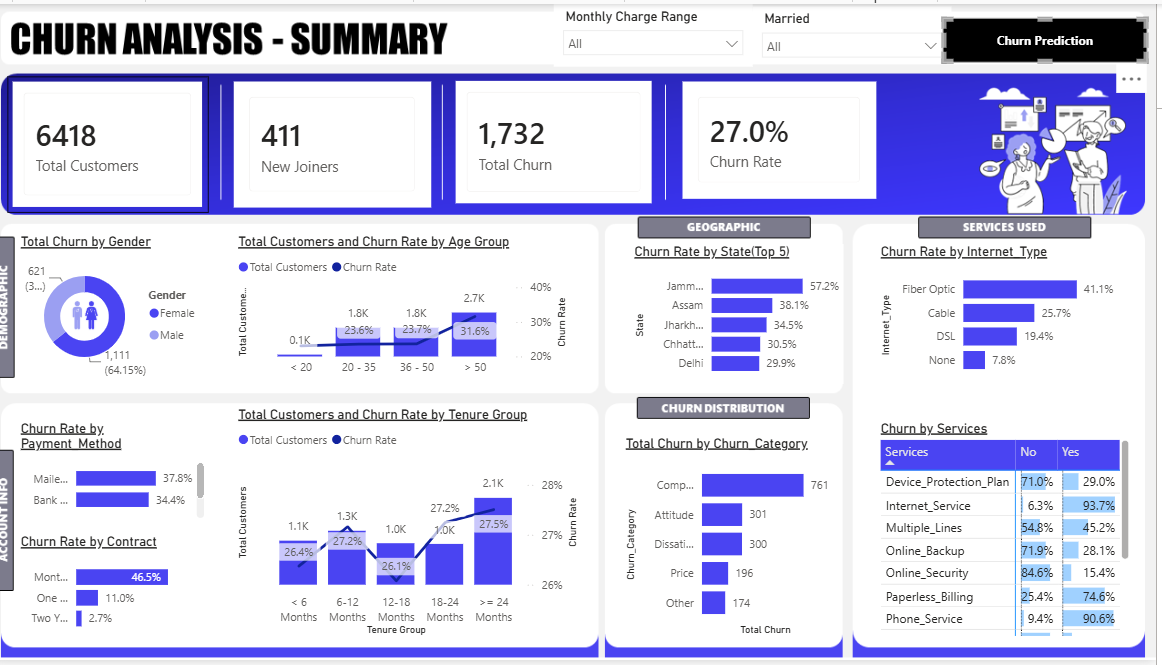

Layout of this report page (visuals, bound fields, positions):
{"tool":"powerbi","page":{"name":"Summary","canvas":[1280,720],"ordinal":0},"visuals":[{"type":"cardVisual","fields":{"Data":["tbl_Measures.Total Customers"]},"box":[19.2,79.6,220.9,149.6],"z":0},{"type":"cardVisual","fields":{"Data":["tbl_Measures.New Joiners"]},"box":[267.6,85.1,216.8,138.6],"z":1000},{"type":"cardVisual","fields":{"Data":["tbl_Measures.Total Churn"]},"box":[506.3,79.6,225,144.1],"z":2000},{"type":"cardVisual","fields":{"Data":["tbl_Measures.Churn Rate"]},"box":[760.2,85.1,212.7,129],"z":3000},{"type":"donutChart","fields":{"Category":["prod_Churn.Gender"],"Y":["tbl_Measures.Total Churn"]},"box":[28.8,252.5,211.3,164.7],"z":4000},{"type":"lineStackedColumnComboChart","fields":{"Category":["mapping_AgeGrp.Age Group"],"Y":["tbl_Measures.Total Customers"],"Y2":["tbl_Measures.Churn Rate"]},"box":[267.6,252.5,371.9,164.7],"z":5000},{"type":"clusteredBarChart","fields":{"Category":["prod_Churn.Payment_Method"],"Y":["tbl_Measures.Churn Rate"]},"box":[28.8,456.9,211.3,112.5],"z":6000},{"type":"clusteredBarChart","fields":{"Category":["prod_Churn.Contract"],"Y":["tbl_Measures.Churn Rate"]},"box":[28.8,581.8,211.3,116.6],"z":7000},{"type":"lineStackedColumnComboChart","fields":{"Category":["mapping_TenureGrp.Tenure Group"],"Y":["tbl_Measures.Total Customers"],"Y2":["tbl_Measures.Churn Rate"]},"box":[267.6,441.9,384.2,256.6],"z":8000},{"type":"clusteredBarChart","title":"Churn Rate by State(Top 5)","fields":{"Category":["prod_Churn.State"],"Y":["tbl_Measures.Churn Rate"]},"box":[702.6,263.5,234.6,153.7],"z":9000},{"type":"clusteredBarChart","fields":{"Category":["prod_Churn.Churn_Category"],"Y":["tbl_Measures.Total Churn"]},"box":[693,473.4,233.3,225],"z":10000},{"type":"clusteredBarChart","fields":{"Category":["prod_Churn.Internet_Type"],"Y":["tbl_Measures.Churn Rate"]},"box":[972.9,263.5,282.7,153.7],"z":11000},{"type":"pivotTable","title":"Churn by Services","fields":{"Rows":["prod_Services.Services"],"Columns":["prod_Services.Status"],"Values":["Sum(prod_Services.Churn Status)"]},"box":[972.9,456.9,282.7,241.5],"z":12000},{"type":"slicer","fields":{"Values":["prod_Churn.Monthly Charge  Status"]},"box":[618.9,0,218.2,68.6],"z":13000},{"type":"slicer","fields":{"Values":["prod_Churn.Married"]},"box":[837.1,2.7,218.2,61.7],"z":14000},{"type":"image","box":[54.9,321.1,98.8,39.8],"z":15000},{"type":"shape","box":[1045.6,15.1,225,49.4],"z":15001}]}

Visuals, with their boxes in screenshot pixels (x1, y1, x2, y2), scaled from the page's 1280x720 canvas onto the 1162x665 screenshot:
cardVisual - tbl_Measures.Total Customers: bbox=[17, 74, 218, 212]
cardVisual - tbl_Measures.New Joiners: bbox=[243, 79, 440, 207]
cardVisual - tbl_Measures.Total Churn: bbox=[460, 74, 664, 207]
cardVisual - tbl_Measures.Churn Rate: bbox=[690, 79, 883, 198]
donutChart - prod_Churn.Gender x tbl_Measures.Total Churn: bbox=[26, 233, 218, 385]
lineStackedColumnComboChart - mapping_AgeGrp.Age Group x tbl_Measures.Total Customers: bbox=[243, 233, 581, 385]
clusteredBarChart - prod_Churn.Payment_Method x tbl_Measures.Churn Rate: bbox=[26, 422, 218, 526]
clusteredBarChart - prod_Churn.Contract x tbl_Measures.Churn Rate: bbox=[26, 537, 218, 645]
lineStackedColumnComboChart - mapping_TenureGrp.Tenure Group x tbl_Measures.Total Customers: bbox=[243, 408, 592, 645]
"Churn Rate by State(Top 5)" clusteredBarChart: bbox=[638, 243, 851, 385]
clusteredBarChart - prod_Churn.Churn_Category x tbl_Measures.Total Churn: bbox=[629, 437, 841, 645]
clusteredBarChart - prod_Churn.Internet_Type x tbl_Measures.Churn Rate: bbox=[883, 243, 1140, 385]
"Churn by Services" pivotTable: bbox=[883, 422, 1140, 645]
slicer - prod_Churn.Monthly Charge  Status: bbox=[562, 0, 760, 63]
slicer - prod_Churn.Married: bbox=[760, 2, 958, 59]
image: bbox=[50, 297, 140, 333]
shape: bbox=[949, 14, 1153, 60]
